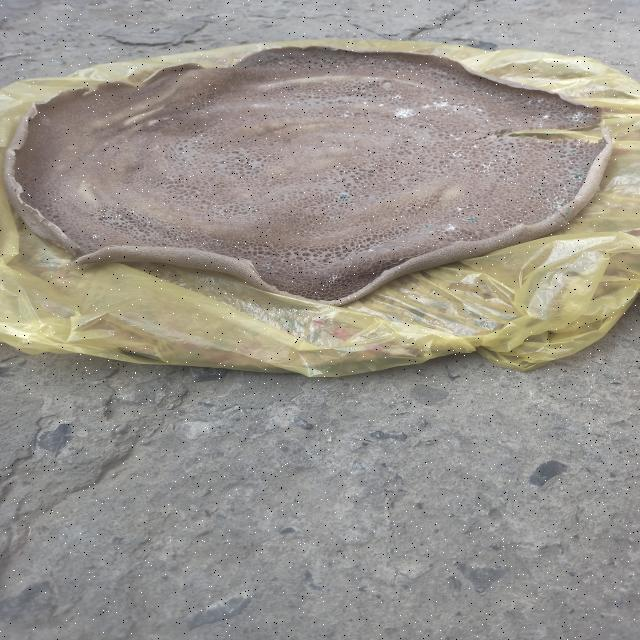injera_mold: (541, 195, 576, 228), (566, 107, 595, 122), (325, 271, 344, 287), (451, 103, 489, 111), (391, 108, 419, 118), (334, 108, 357, 119), (419, 100, 450, 108), (450, 149, 472, 159), (524, 96, 546, 106), (478, 162, 495, 174), (438, 223, 456, 233), (465, 216, 481, 225), (571, 171, 586, 179), (336, 193, 349, 202), (390, 93, 404, 101), (532, 187, 546, 194), (253, 103, 267, 110), (262, 262, 274, 270), (92, 232, 104, 240), (449, 134, 461, 140), (541, 114, 550, 120), (565, 208, 571, 215), (472, 144, 480, 149), (457, 206, 463, 212), (422, 223, 430, 227), (571, 148, 577, 153), (83, 132, 90, 136), (106, 111, 113, 115), (362, 101, 368, 105), (379, 103, 385, 107), (438, 95, 444, 98)
